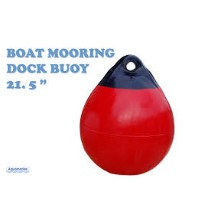buoy: (80, 85, 176, 176)
